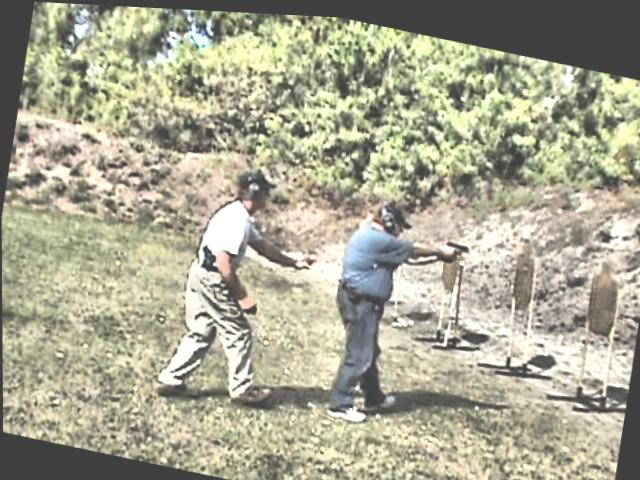pistol: (438, 233, 467, 258)
